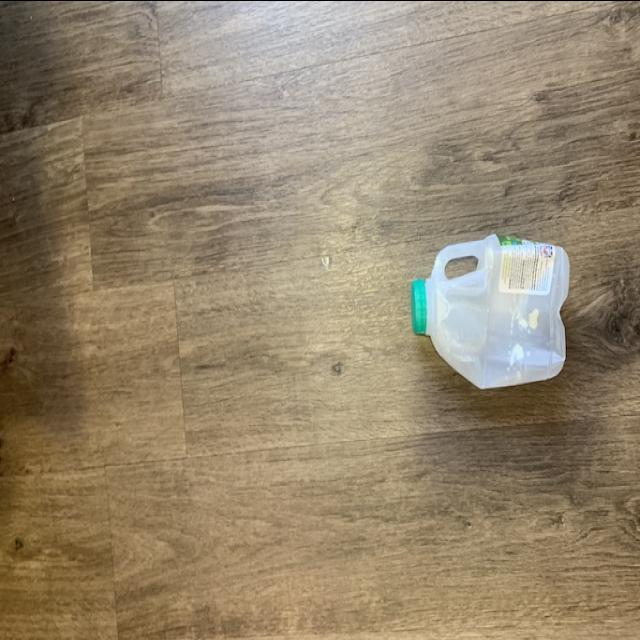litter: (407, 234, 580, 392)
